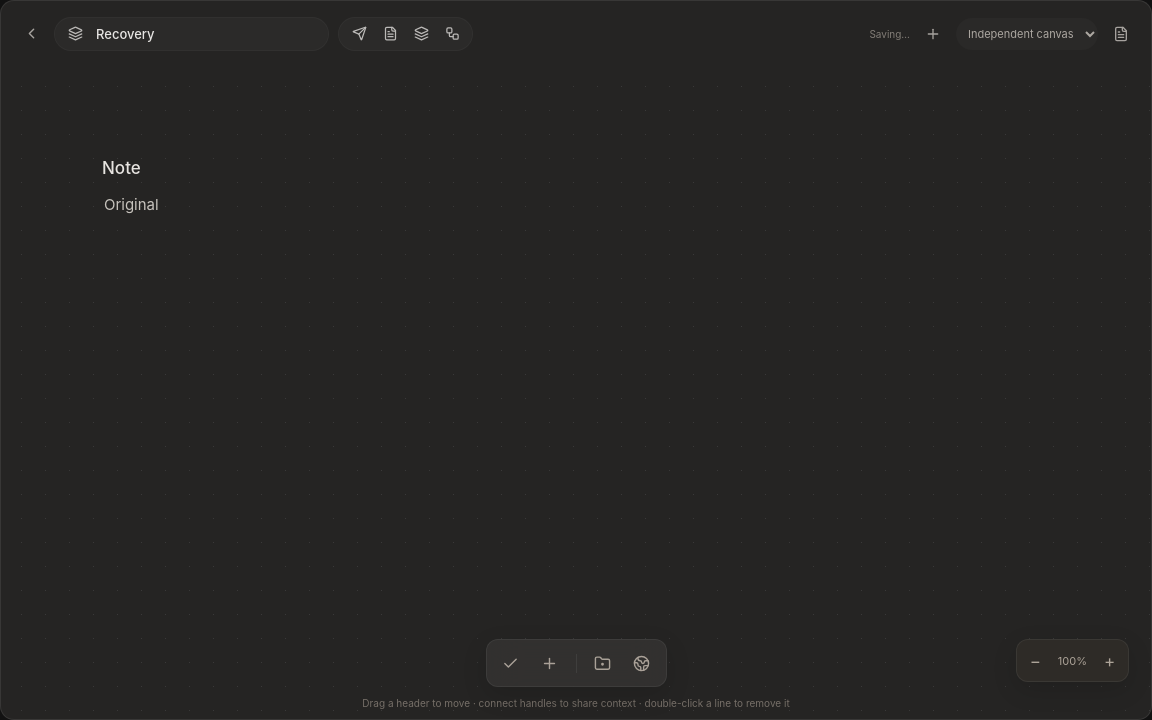
Test case: Canvas workspace durability › preserves unsaved edits and retries a failed save
Replace the text in the text box named "Note text" with "Still here" at (241, 297), box left=82, top=189, right=400, bottom=405
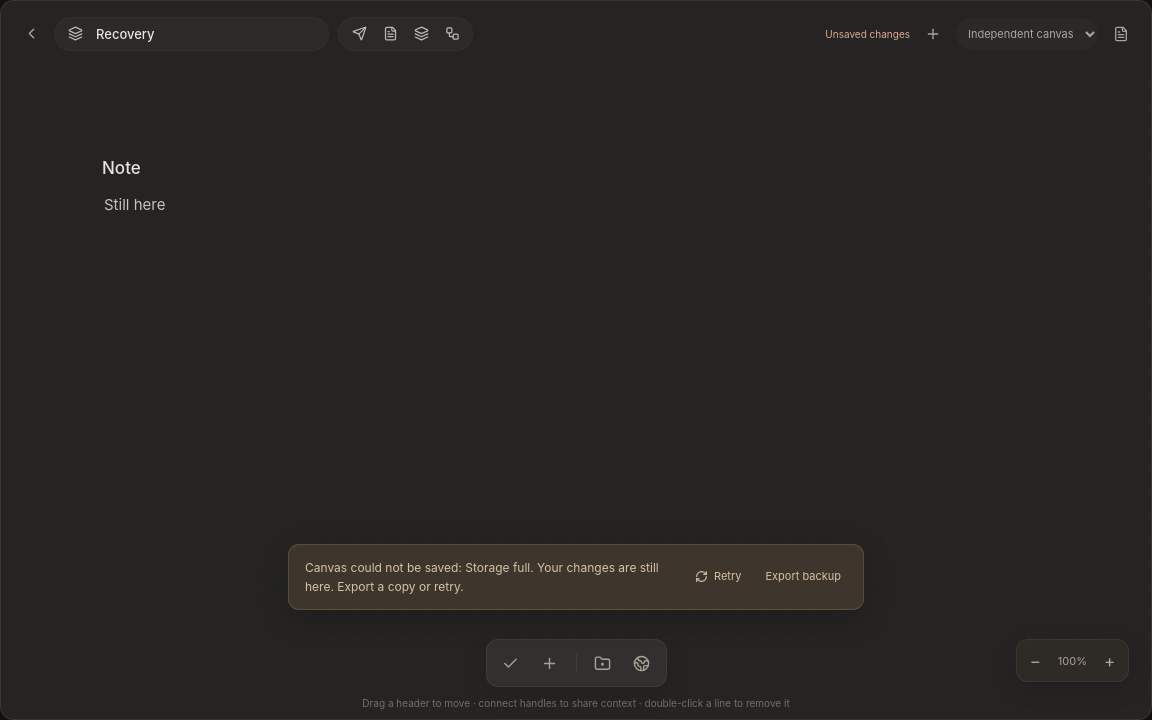
Check: the message is shown, box left=288, top=544, right=864, bottom=610
Check: the message shows "Storage full", box left=305, top=560, right=659, bottom=594
Click the button "Retry".
click(718, 577)  # box left=689, top=567, right=747, bottom=587
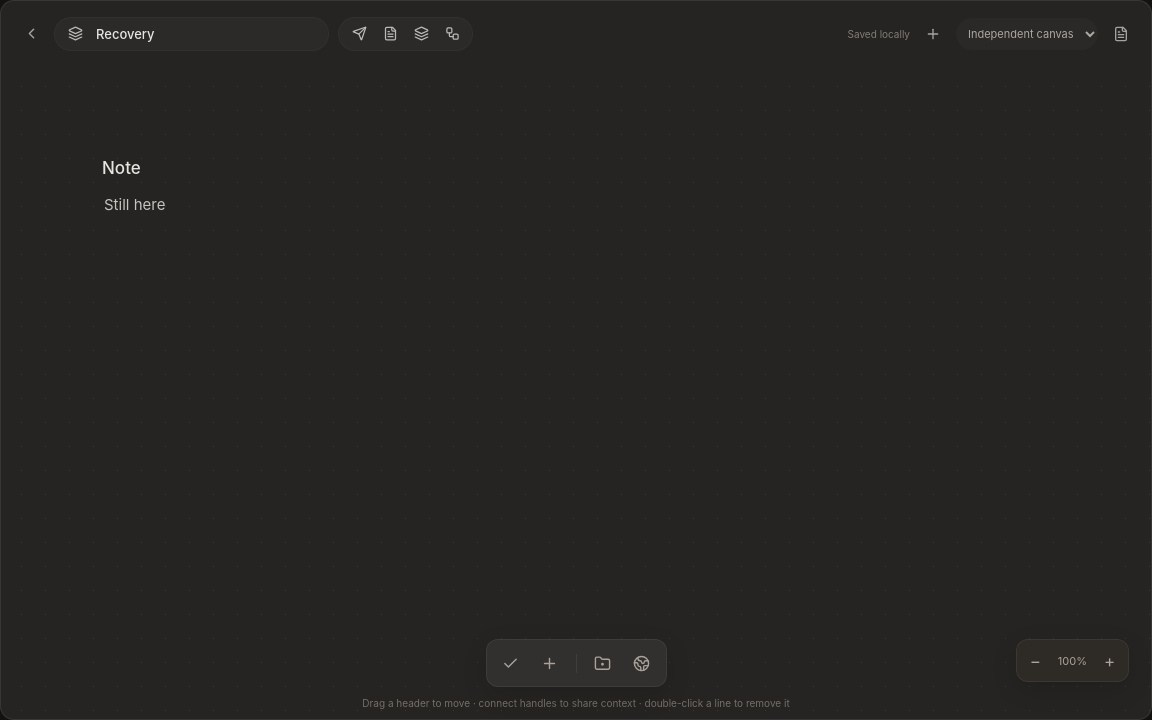
Check: the message is gone
